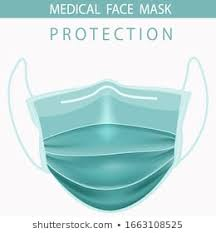flumask: (36, 83, 183, 201)
